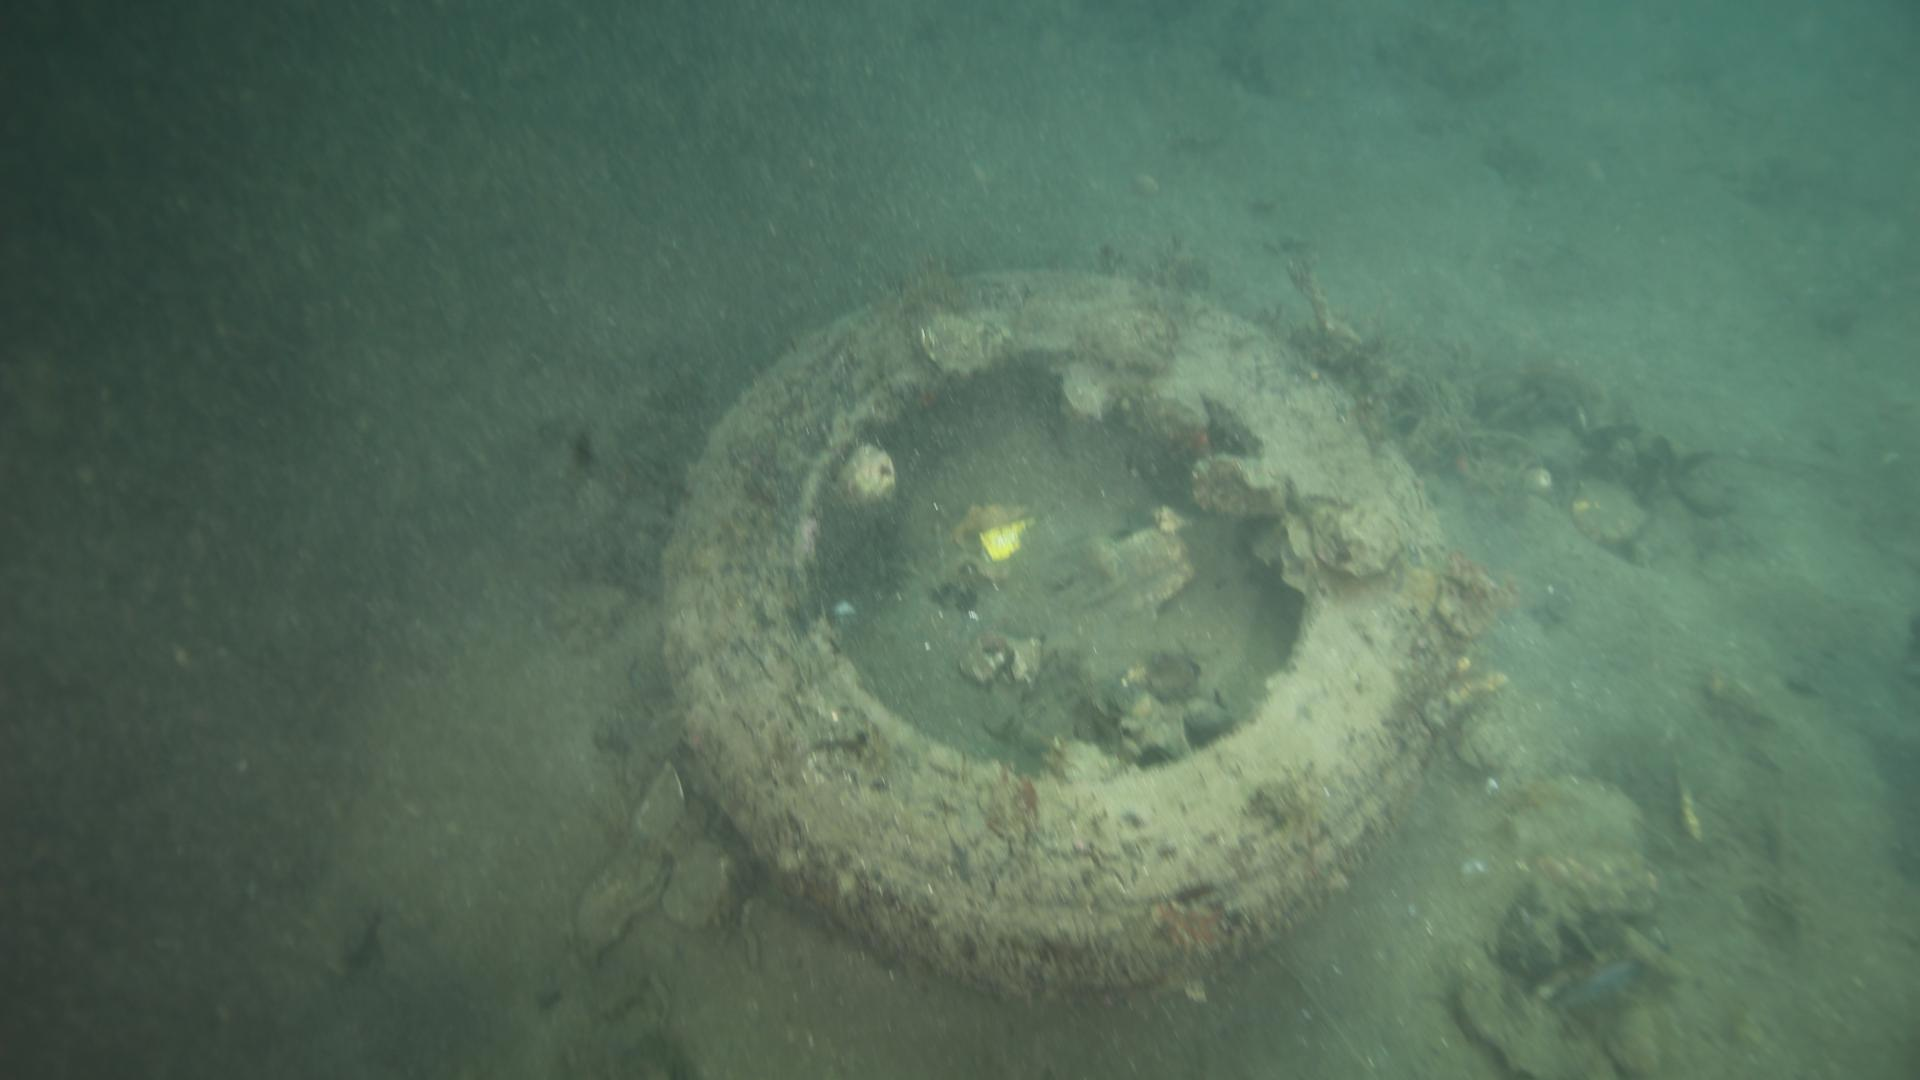tire: (654, 258, 1458, 1004)
